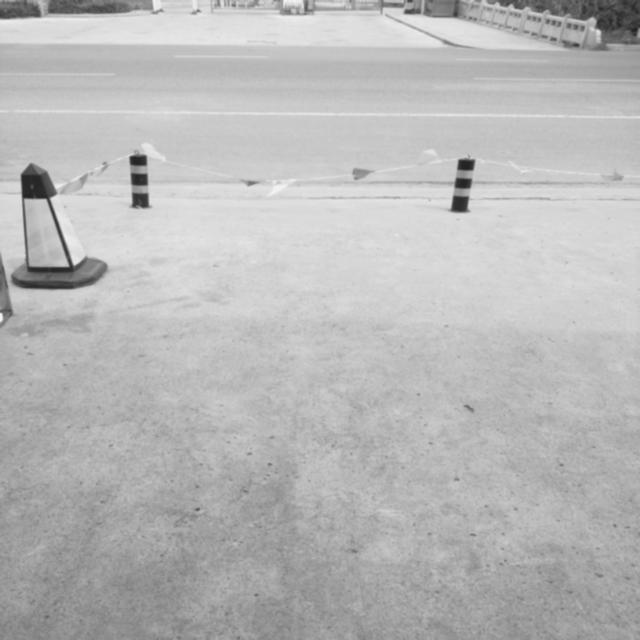reflective_cone: (7, 164, 109, 287)
warning_column: (448, 155, 476, 214), (124, 150, 152, 209)
